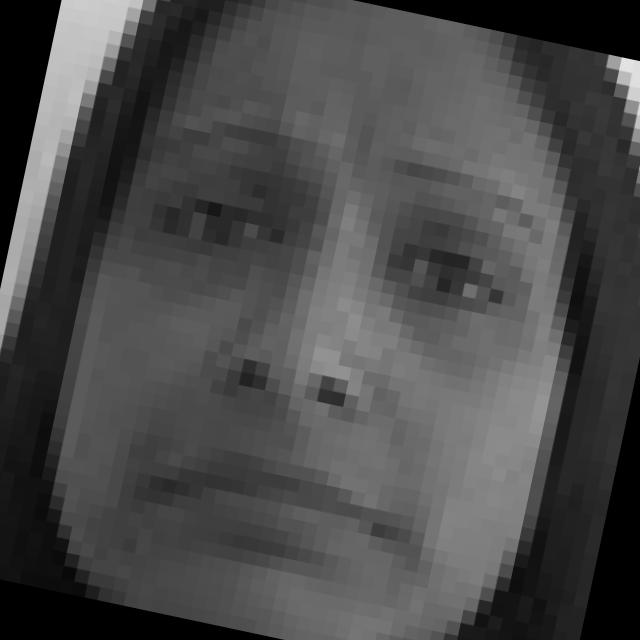sad: (67, 92, 561, 590)
